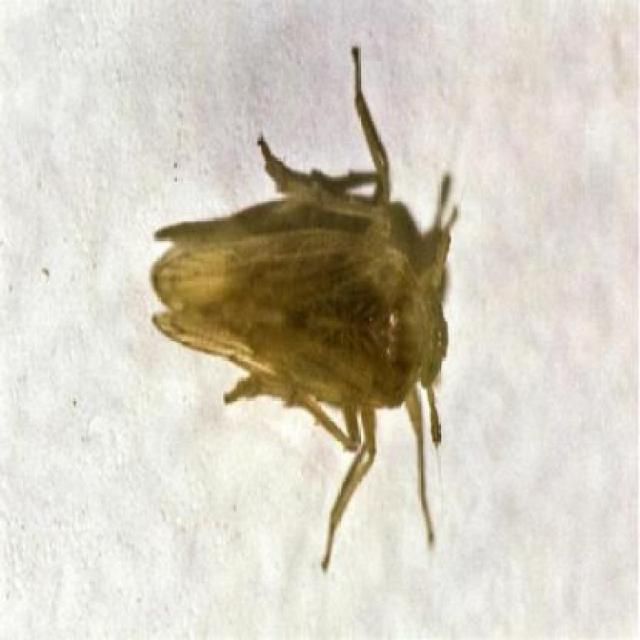brown-planthopper: (147, 123, 462, 525)
